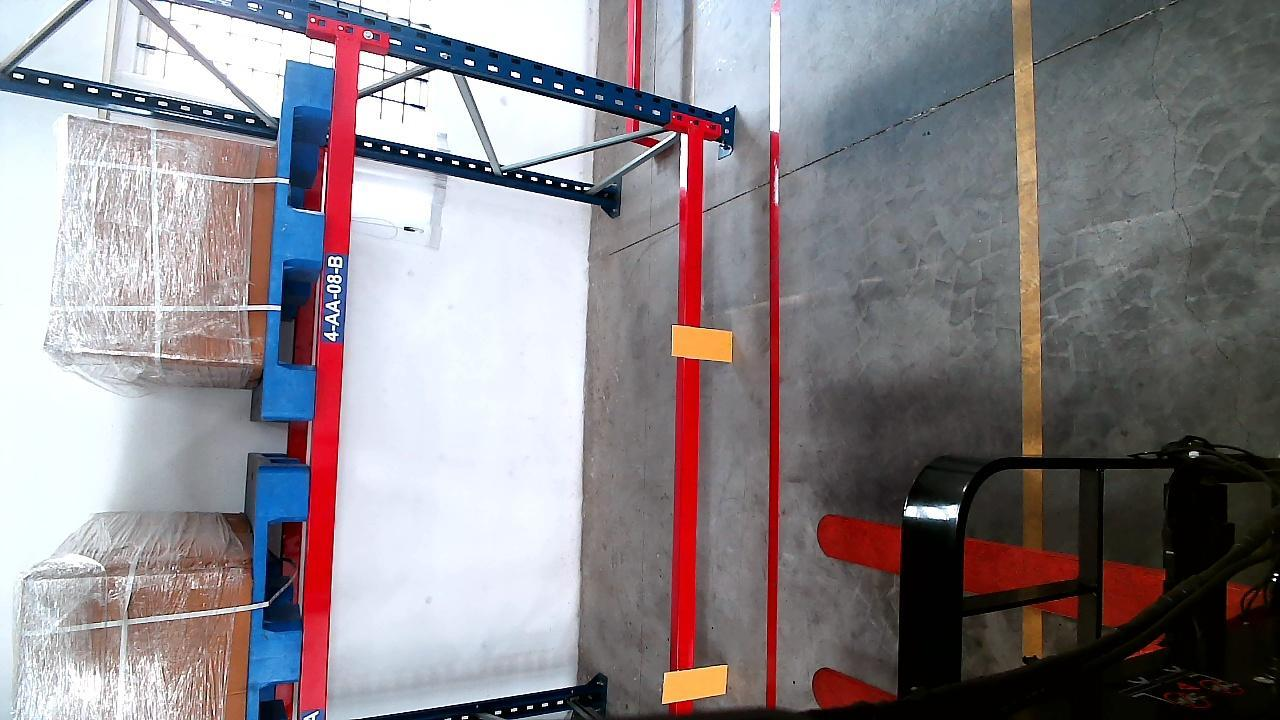red_line: (764, 0, 778, 709)
yellow_line: (1015, 0, 1042, 490)
